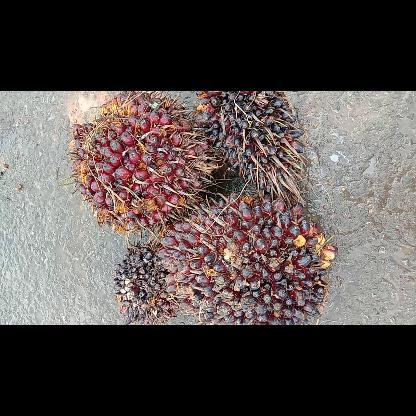Kurang masak: (161, 194, 337, 324)
TBS abnormal: (194, 91, 304, 193), (116, 242, 176, 324)
TBS masak: (69, 90, 214, 228)
